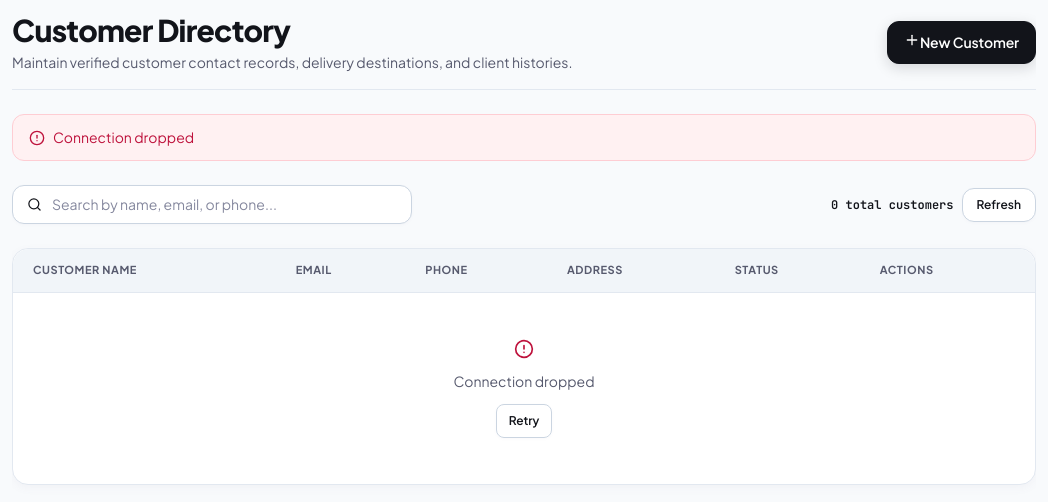
Test: Phase 3 Operations Frontend Components › Operations Layout, Loading States, and Error Recovery Regression Suite › CustomersPage handles error state with safe in-table retry button
// Trigger retry
Click the button "Retry": (524,421) [496, 404, 552, 438]
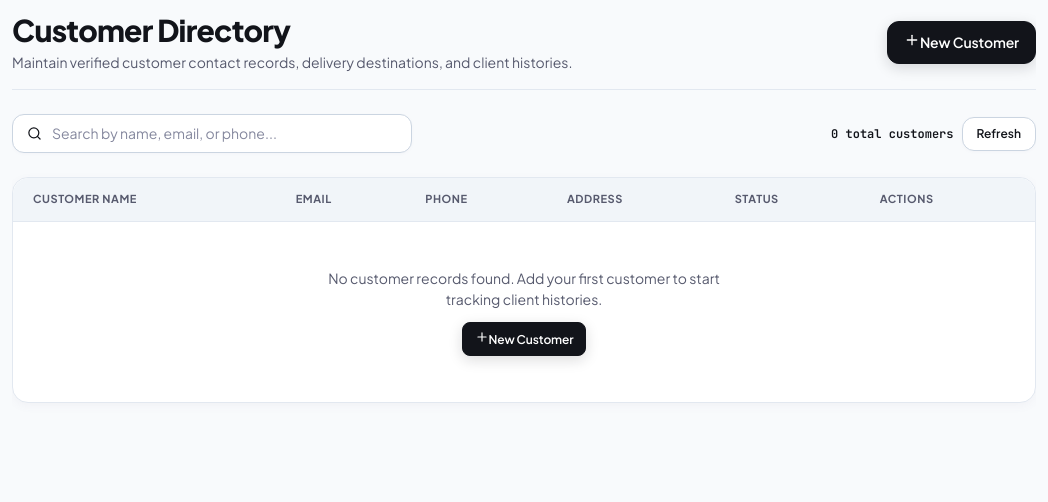
Check: the text "No customer records found" is shown, box [328, 269, 720, 308]
